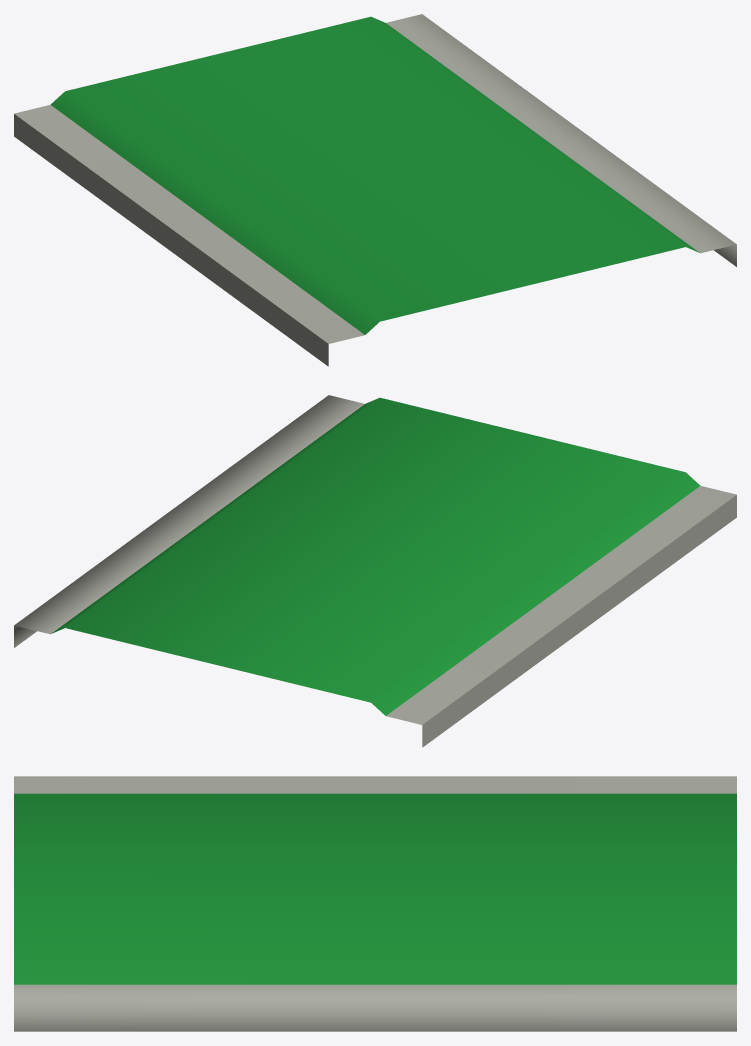
The model's file is RoadMid_1_A.fbx.
The picture shows the model from 3 angles, top to bottom: view 1: azimuth 30°, elevation 25°; view 2: azimuth 150°, elevation 25°; view 3: azimuth 270°, elevation 25°; orthographic projection. The views are drawn at different scales.
Visible parts, largest first — view 1: RoadMid_1_A; view 2: RoadMid_1_A; view 3: RoadMid_1_A.
Part boxes in pixels (x1,y1,x2,y2): RoadMid_1_A: (14,14,736,366); RoadMid_1_A: (14,395,736,747); RoadMid_1_A: (14,776,736,1031).
Size of the model in its own units: 299 by 22.96 by 400.
